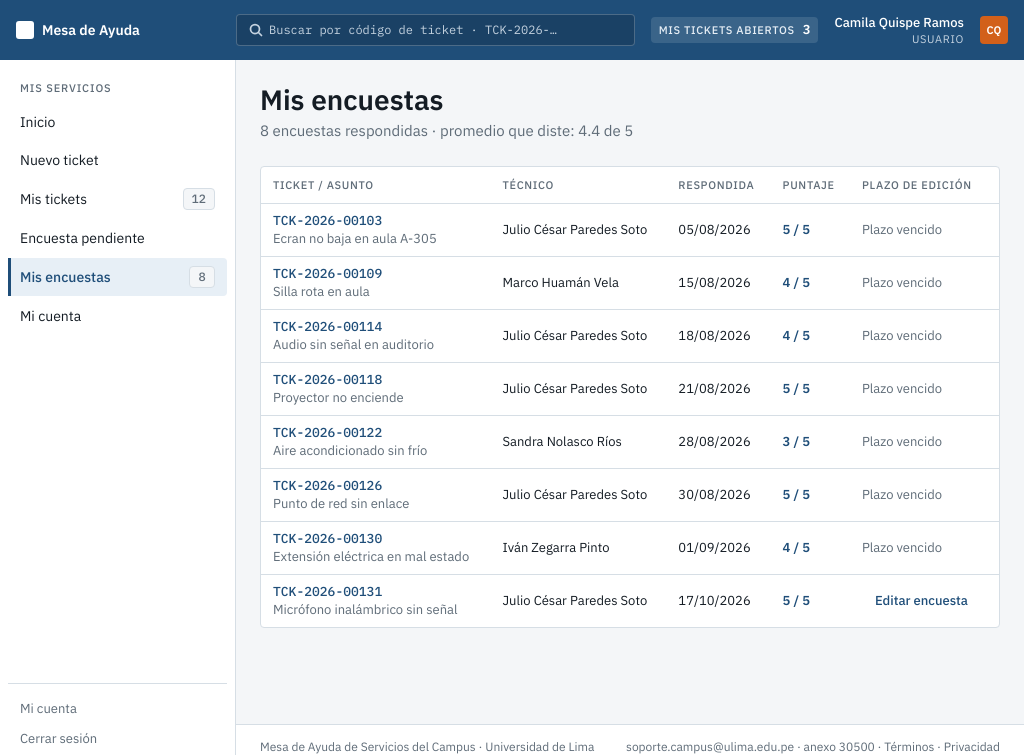
it: MisEncuestasPage (Vista 6.2) › permite navegar al formulario de edición al hacer clic en Editar encuesta
Click the button "Editar encuesta": (922, 600) left=862, top=584, right=981, bottom=616
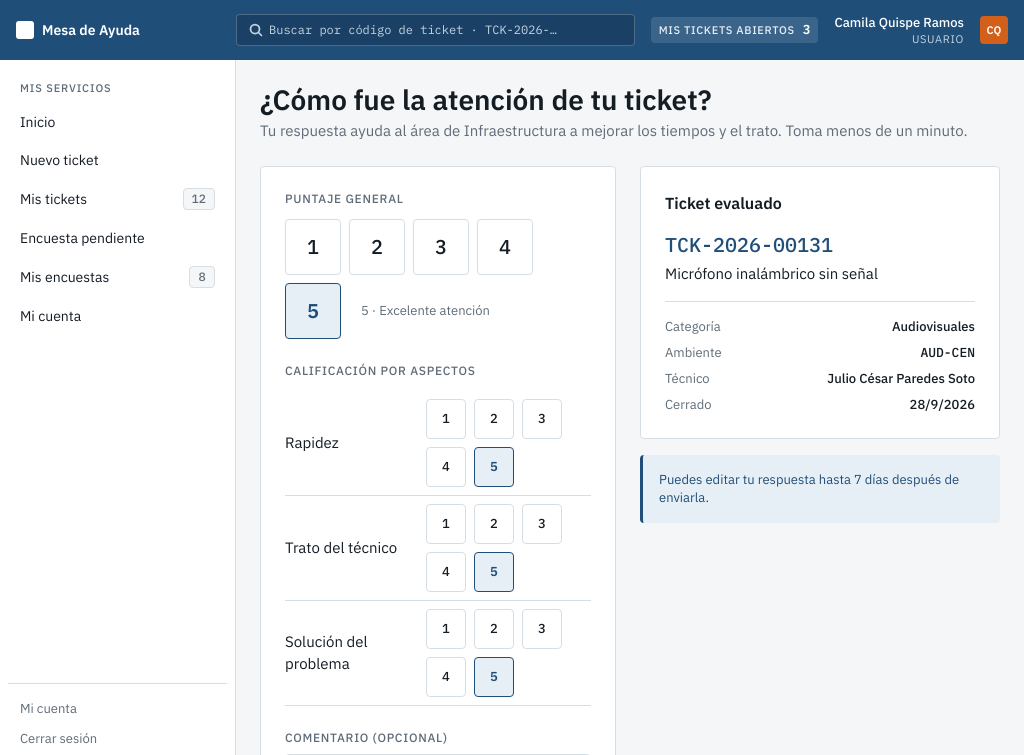
Now the heading "¿Cómo fue la atención de tu ticket?" is shown, box left=260, top=81, right=712, bottom=118
